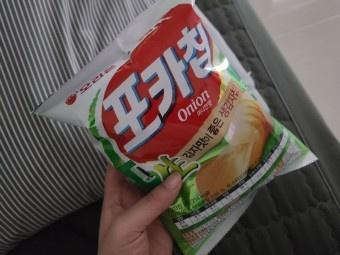snack: (31, 0, 320, 255)
